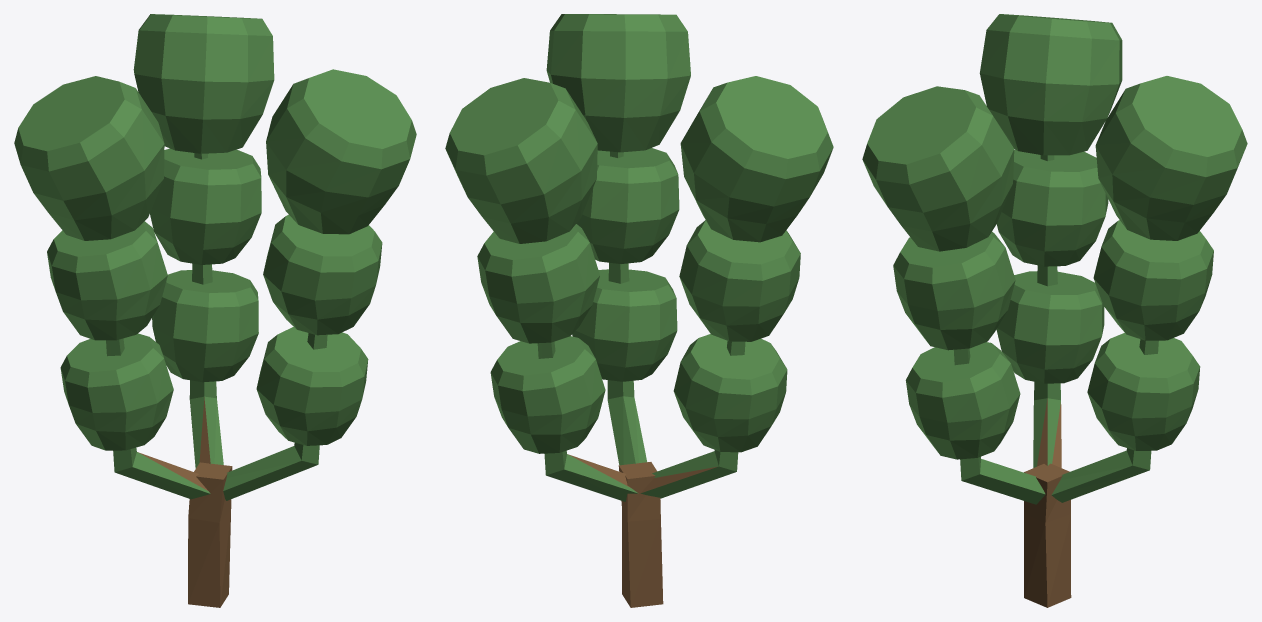
Rendered from tree3d-001.glb.
3 renders of one model, left to right at view 1: azimuth 30°, elevation 25°; view 2: azimuth 150°, elevation 25°; view 3: azimuth 270°, elevation 25°, orthographic.
Visible parts, largest first — view 1: tree3d-001; view 2: tree3d-001; view 3: tree3d-001.
Boxes of the visible parts, left/top/right/bottom form: tree3d-001: left=14, top=14, right=416, bottom=607; tree3d-001: left=445, top=14, right=833, bottom=607; tree3d-001: left=862, top=14, right=1247, bottom=607.
Bounding box in the file's own units: 0.6297 × 1 × 0.6505.
